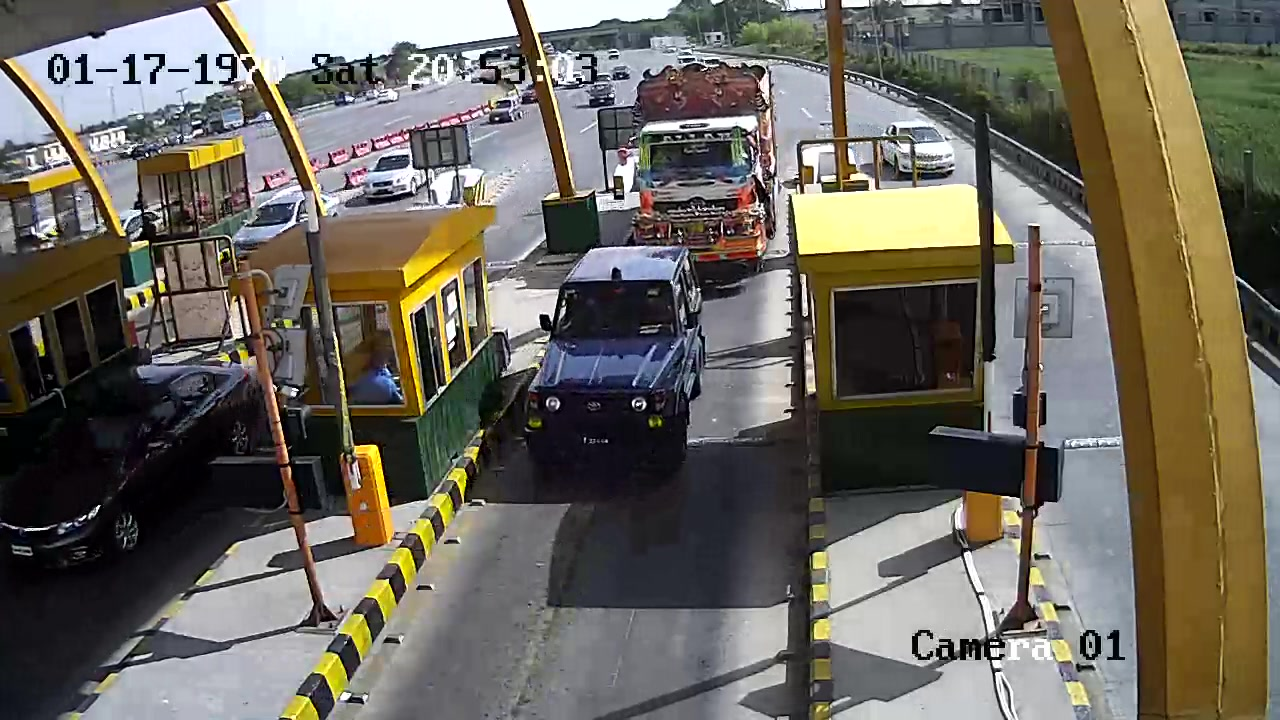F1: (514, 238, 711, 480)
